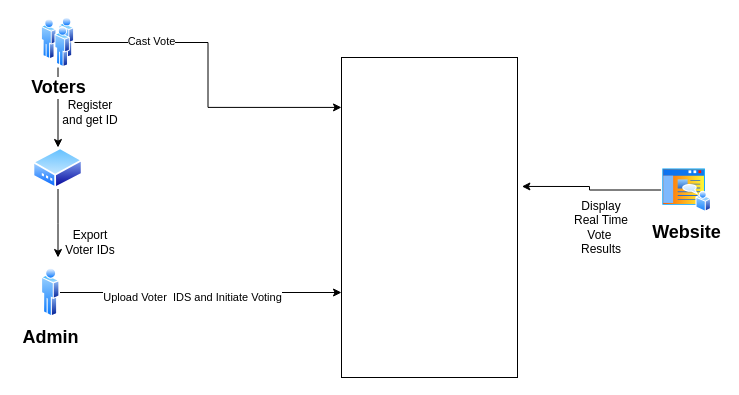
Image size: 739x395. Some labels were removed from this diagram. Each missing label, with the box of its shape:
Hardware: (32, 147, 82, 188)
Voting Contract: (340, 56, 518, 378)
